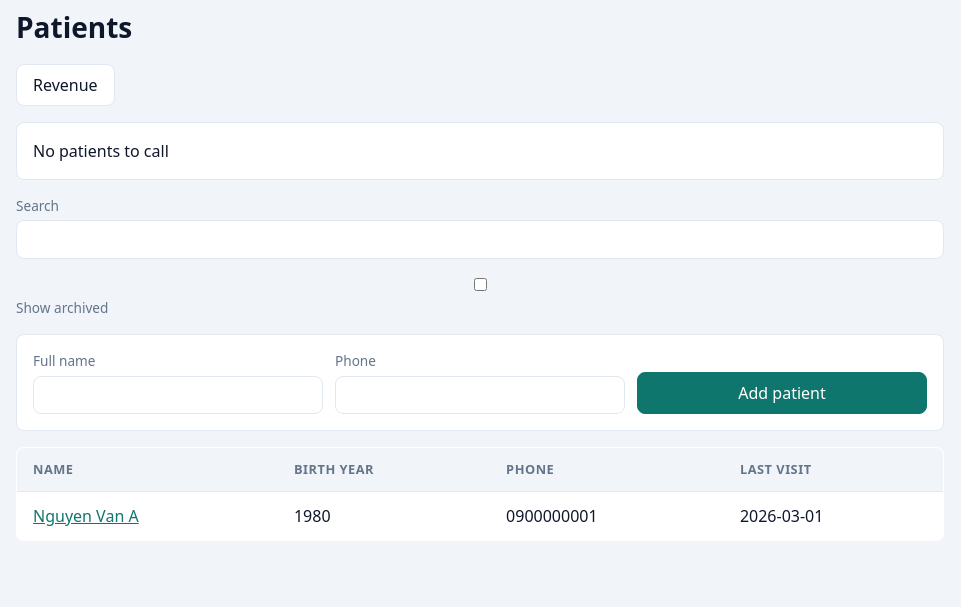
Test: show archived refetches with archived included and marks them
Check: the link "Nguyen Van A" is shown, box [33,505,139,527]
Step 1. Click the checkbox labelled "Show archived" → (480, 284), box [20,278,941,291]
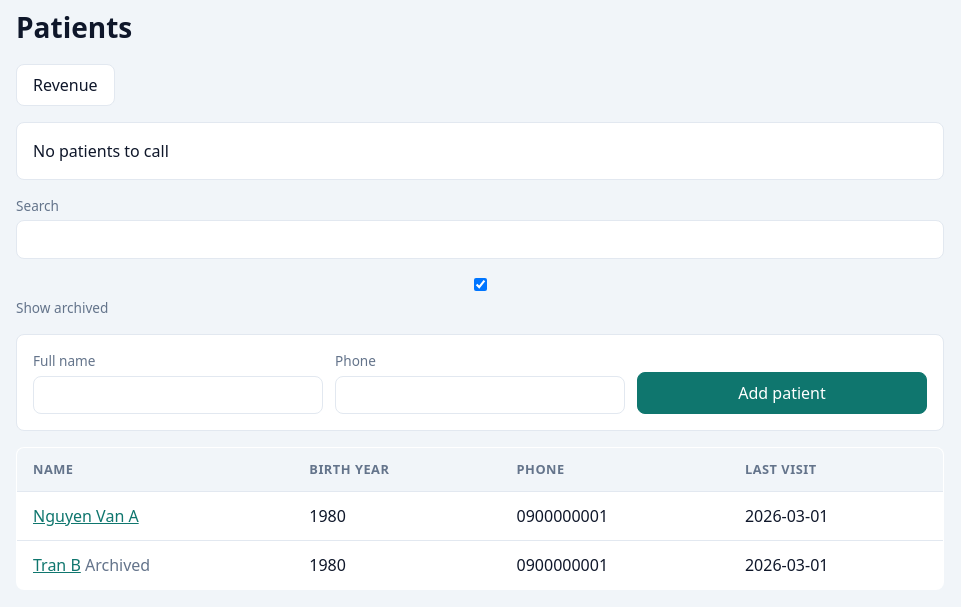
Check: the text "Archived" is shown, box [85,554,150,576]
